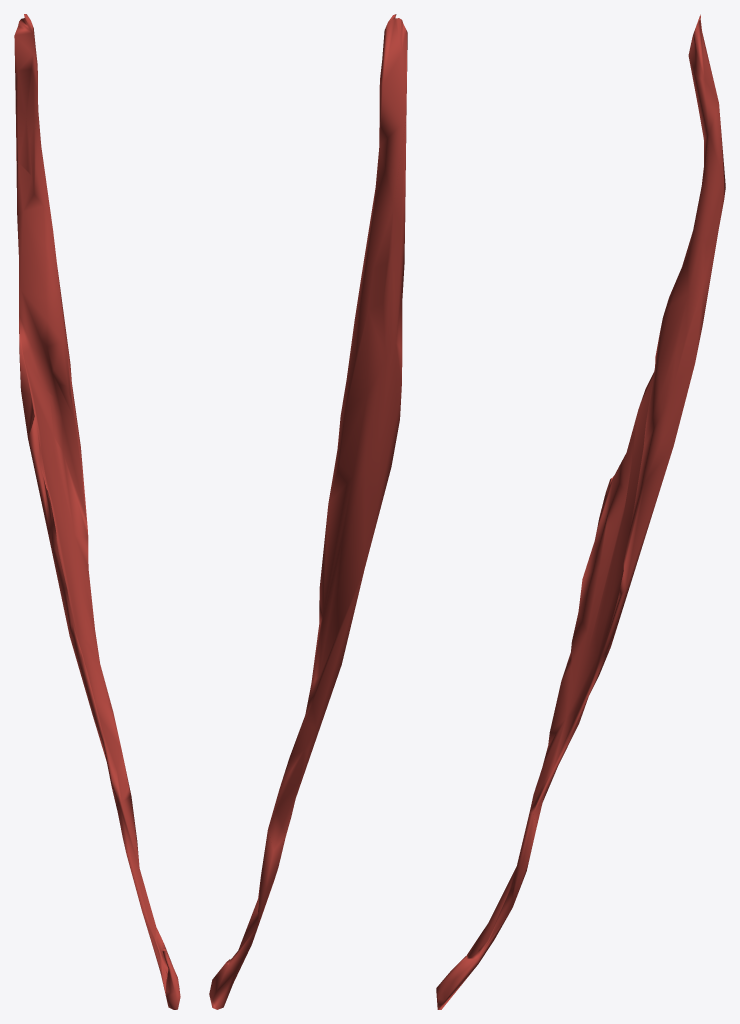
The model's file is musculos-humeral-head-of-extensor-carpi-ulnaris-l.glb.
3 views of the same model, side by side, from view 1: azimuth 30°, elevation 25°; view 2: azimuth 210°, elevation 25°; view 3: azimuth 270°, elevation 25° (orthographic). The views are drawn at different scales.
Parts seen in each view (by area): view 1: Humeral head of extensor carpi ulnaris.l; view 2: Humeral head of extensor carpi ulnaris.l; view 3: Humeral head of extensor carpi ulnaris.l.
Boxes of the visible parts, x1,y1,x2,y2 form: Humeral head of extensor carpi ulnaris.l: (14, 14, 180, 1009); Humeral head of extensor carpi ulnaris.l: (209, 14, 407, 1009); Humeral head of extensor carpi ulnaris.l: (436, 14, 725, 1009).
Bounding box in the file's own units: 0.0191 × 0.2889 × 0.0774.
